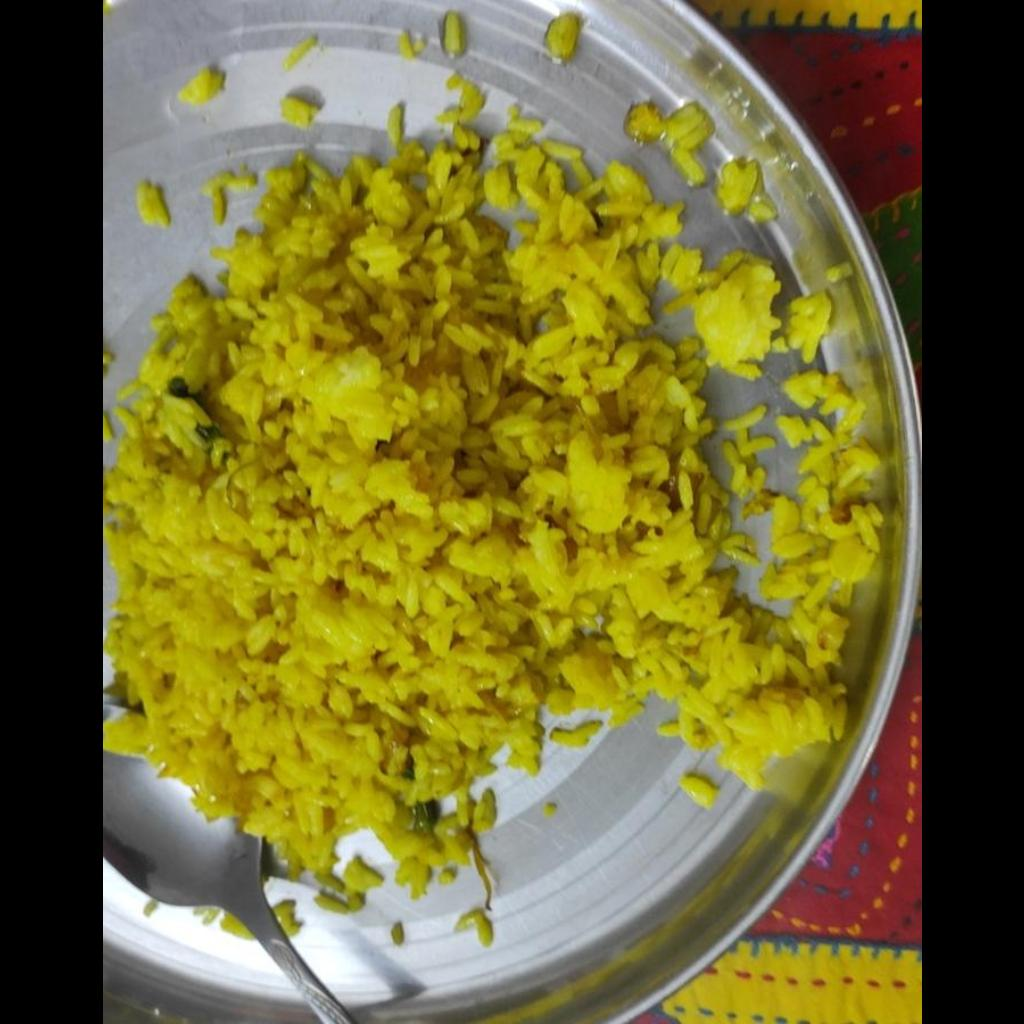khichuri: (109, 105, 888, 946)
